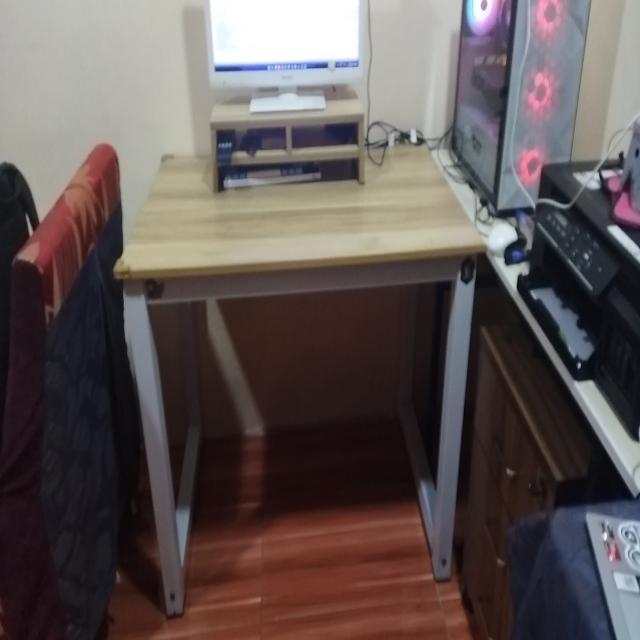table: (118, 125, 490, 606)
